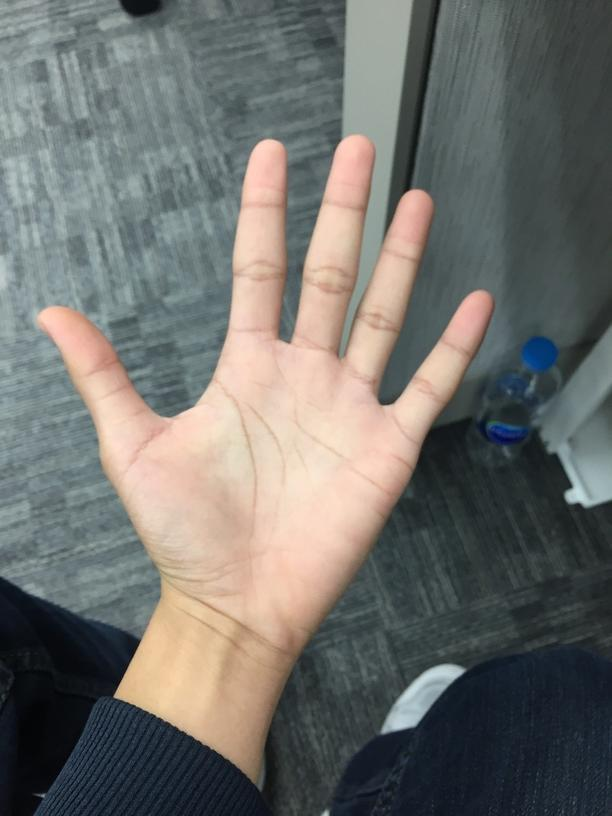hand: (35, 130, 490, 642)
